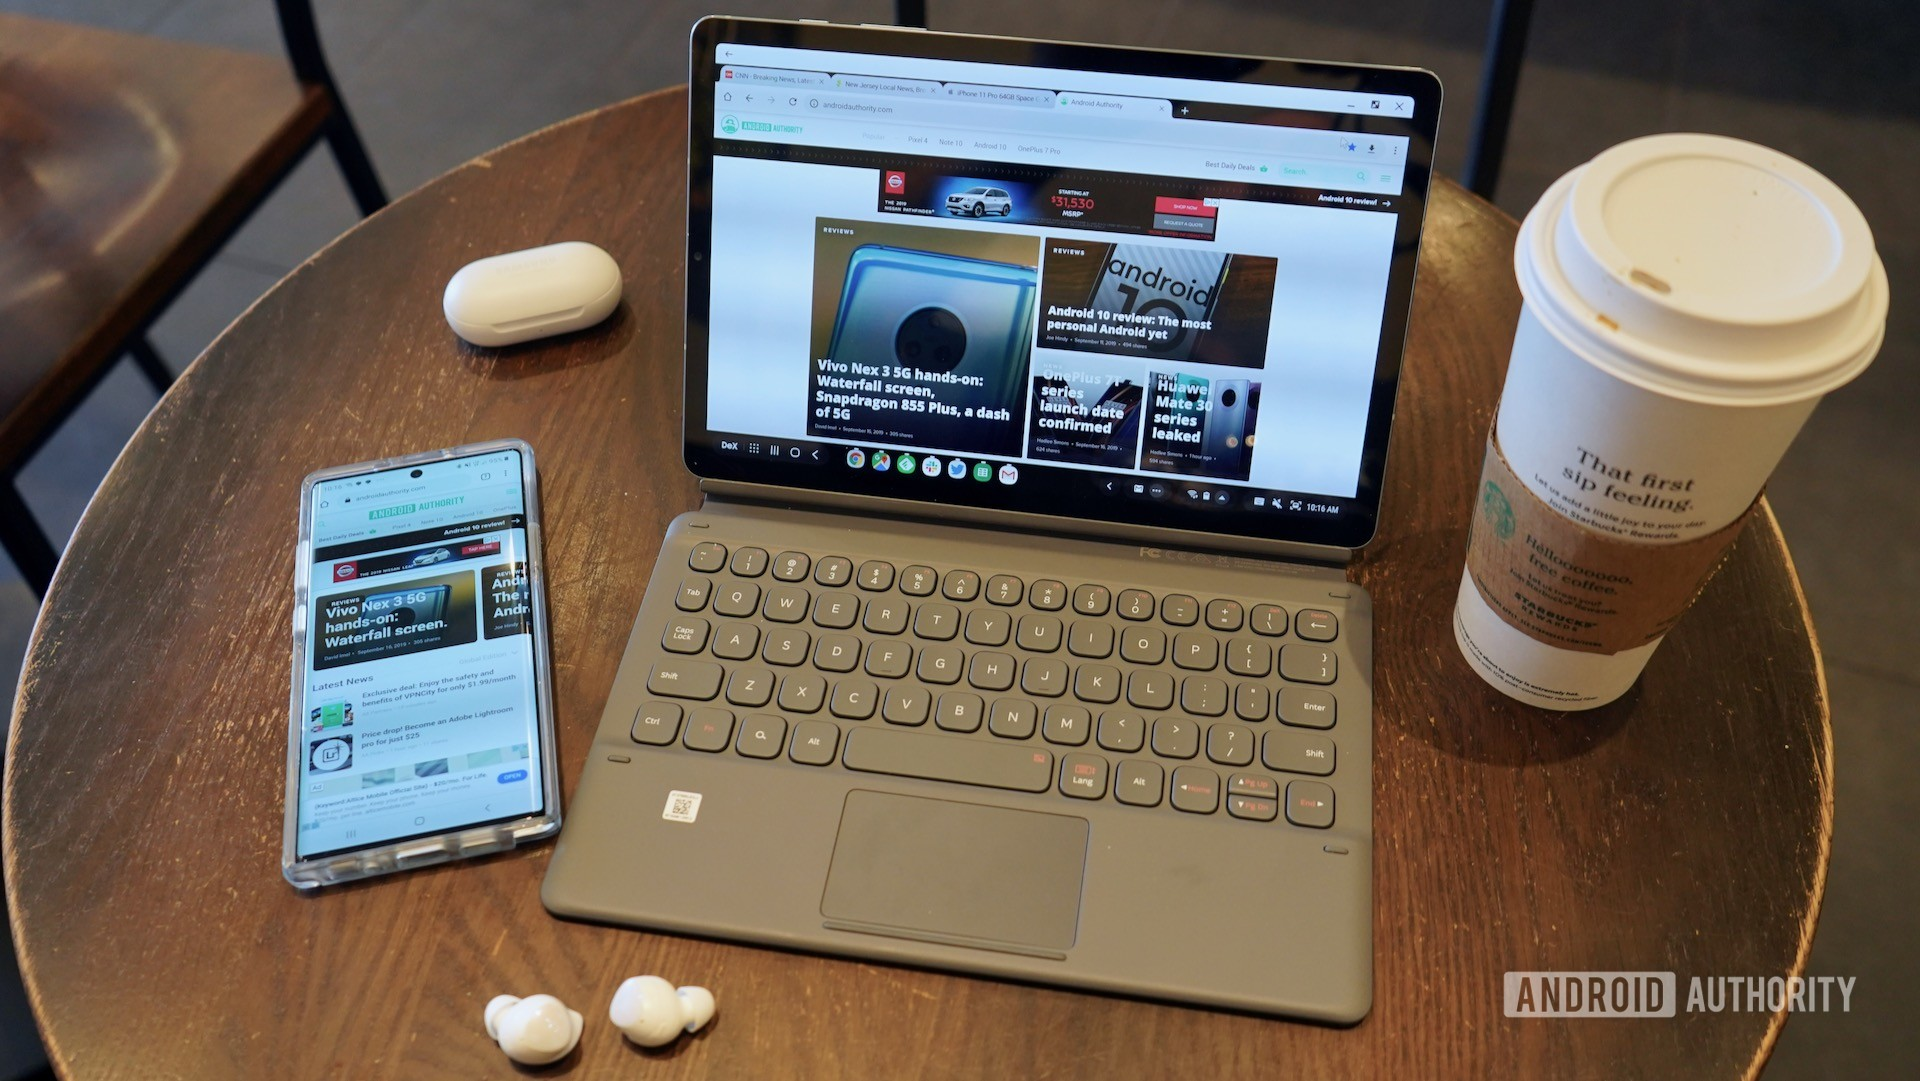Cell Phone: (276, 432, 556, 906)
